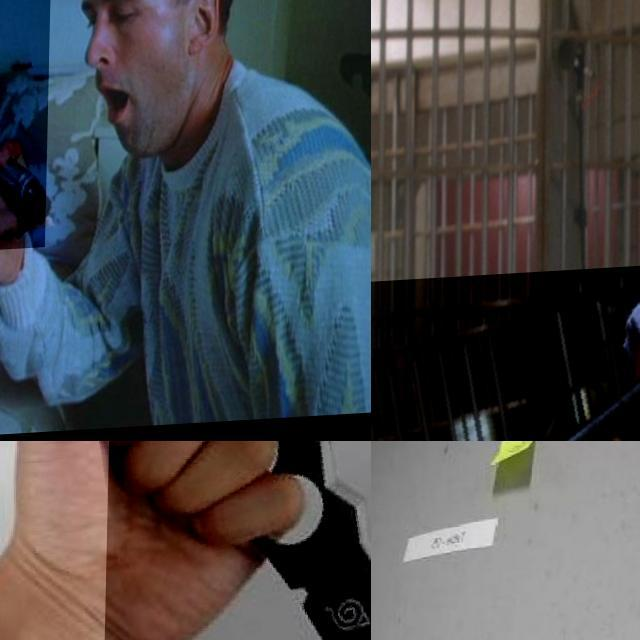-: (102, 441, 371, 640)
gun-knife-thesis - v11 Yolov5 augmented: (371, 256, 640, 441), (0, 0, 95, 259)
